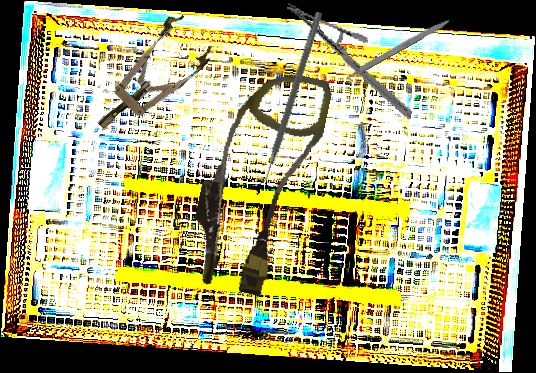Cannula: (181, 60, 335, 302)
Needle Holder: (268, 0, 431, 121)
Scalpel Handle: (344, 15, 453, 81)
Spatula Surgical: (255, 9, 323, 188)
Speculum: (79, 9, 219, 147)
